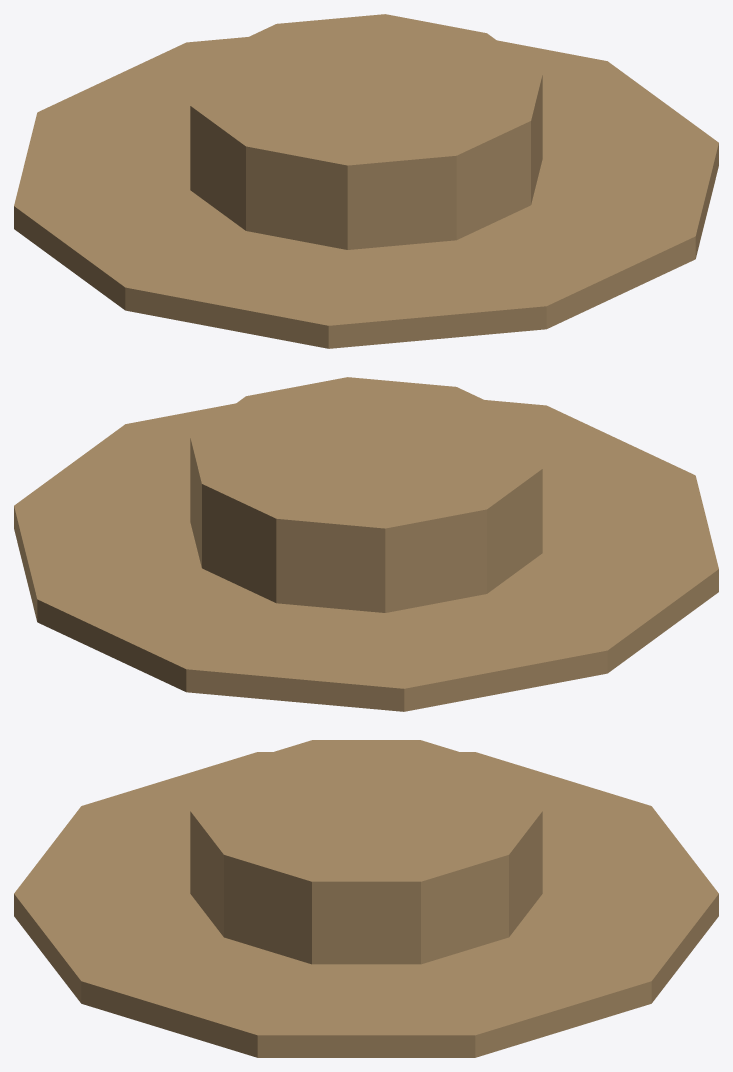
File: hat_wide.glb
The picture shows the model from 3 angles, top to bottom: view 1: azimuth 30°, elevation 25°; view 2: azimuth 150°, elevation 25°; view 3: azimuth 270°, elevation 25°; orthographic projection. The views are drawn at different scales.
Visible parts, largest first — view 1: brim, cyl; view 2: brim, cyl; view 3: brim, cyl.
Boxes of the visible parts, box(x1,y1,x2,y2) form: brim: box(14, 37, 718, 348); cyl: box(190, 14, 542, 249); brim: box(14, 400, 718, 711); cyl: box(190, 377, 542, 612); brim: box(14, 752, 718, 1057); cyl: box(190, 740, 542, 964).
Size of the model in its own units: 0.6467 by 0.112 by 0.68.
